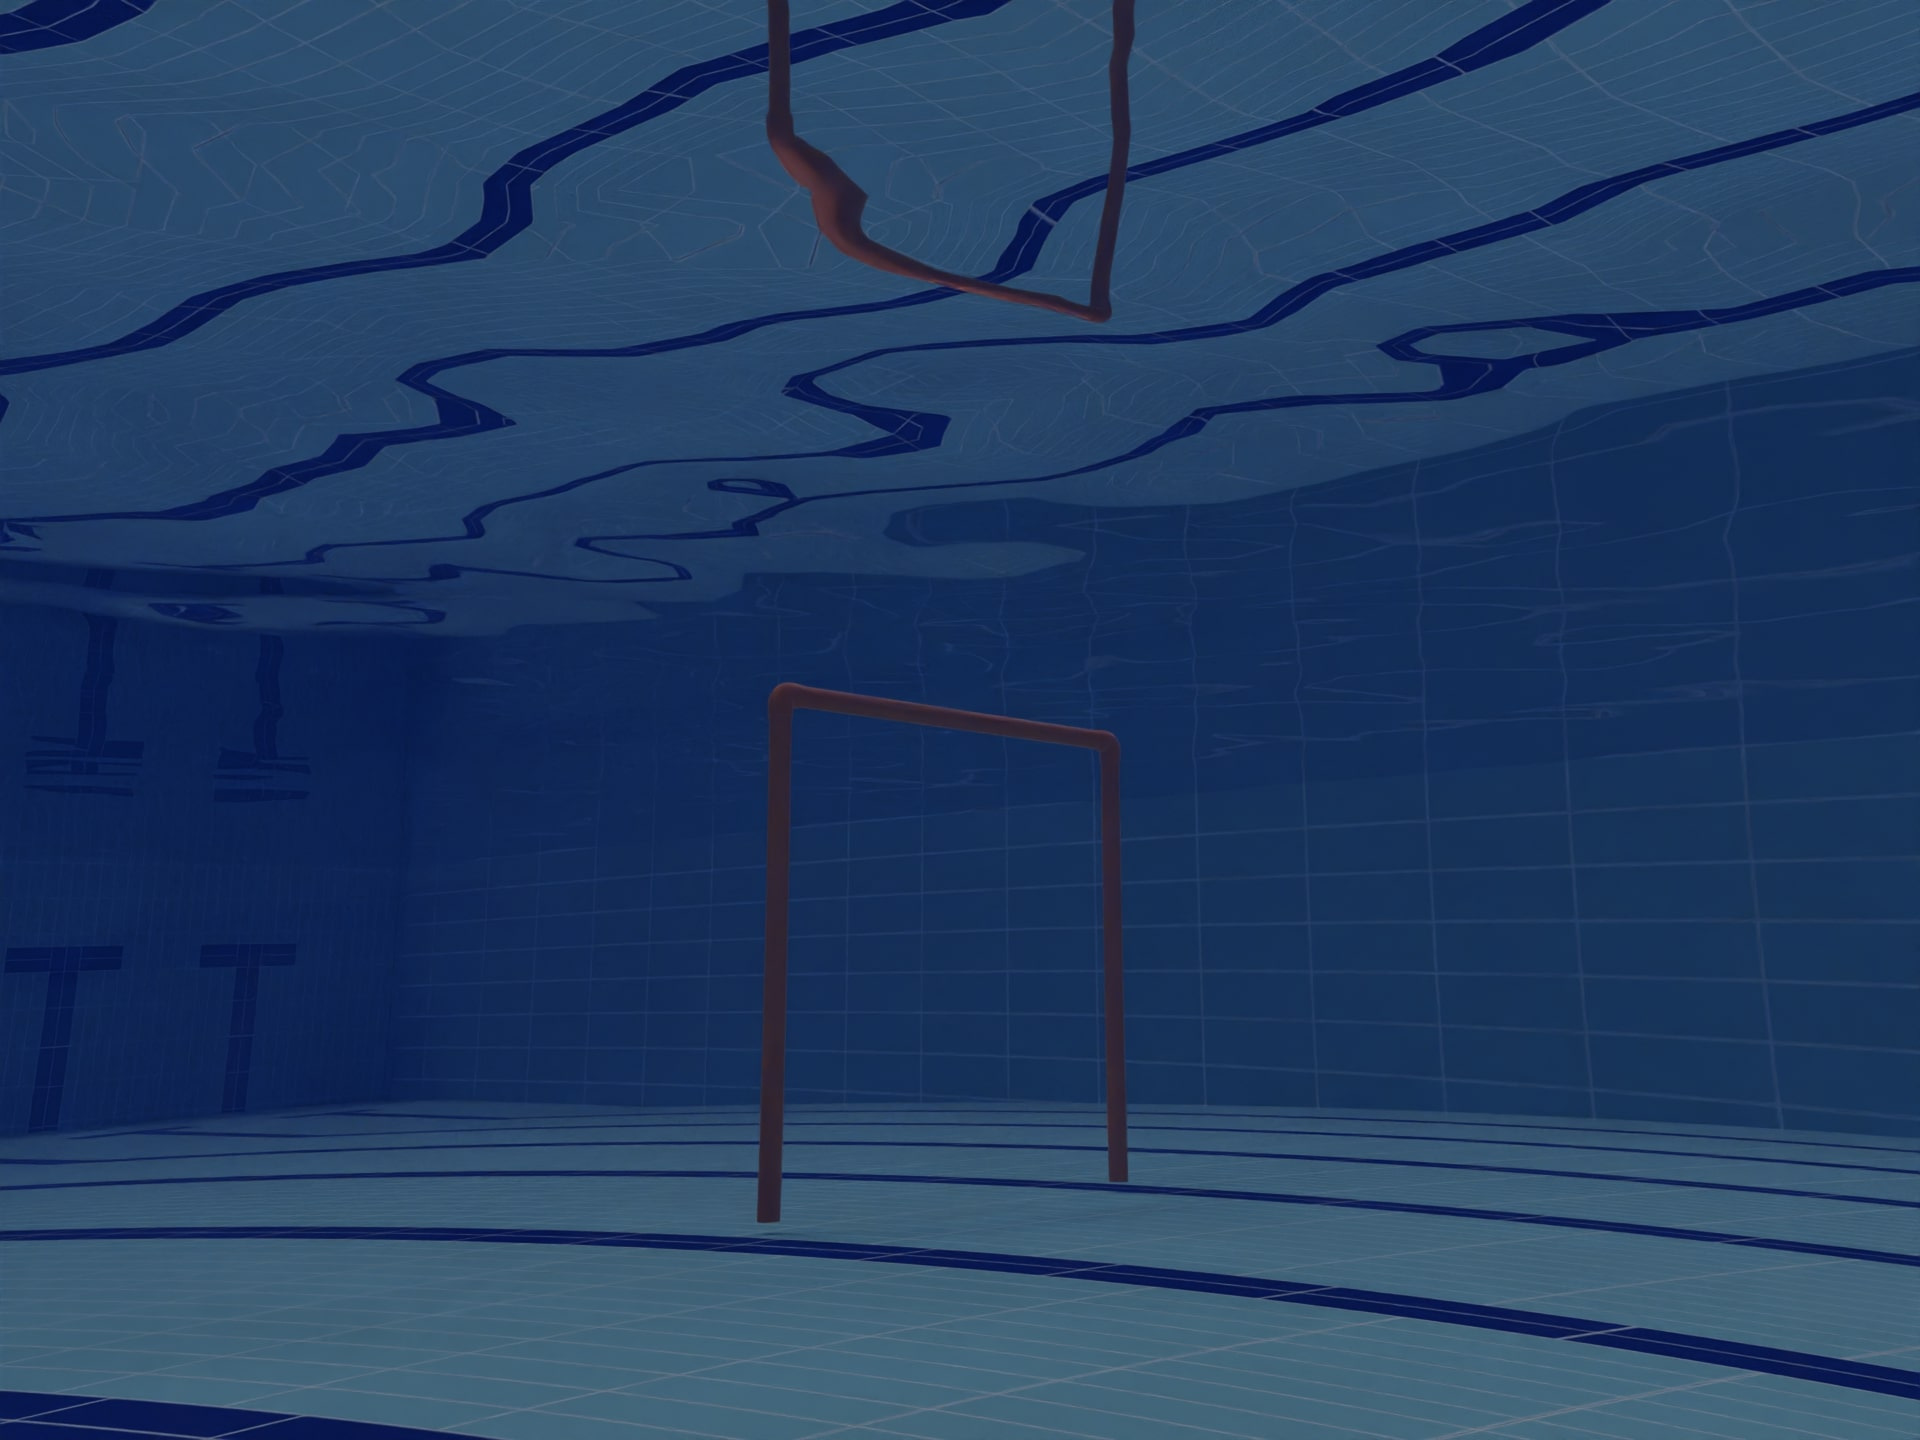gate: (717, 638, 1154, 1230)
